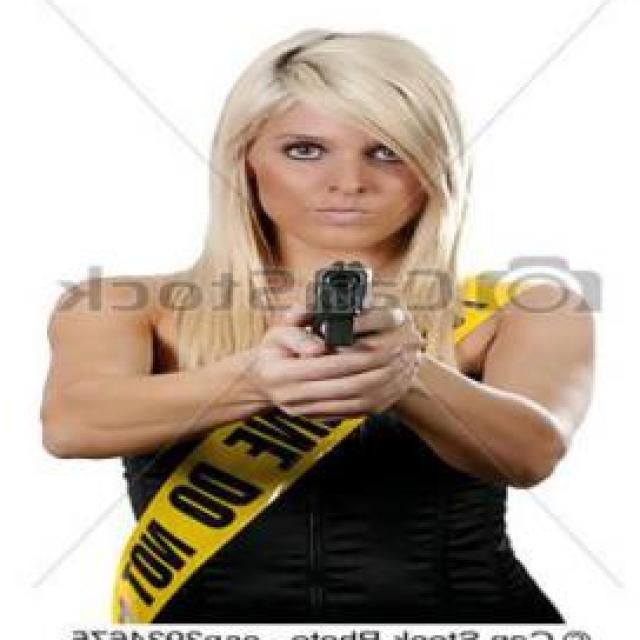pistol: (302, 258, 374, 350)
